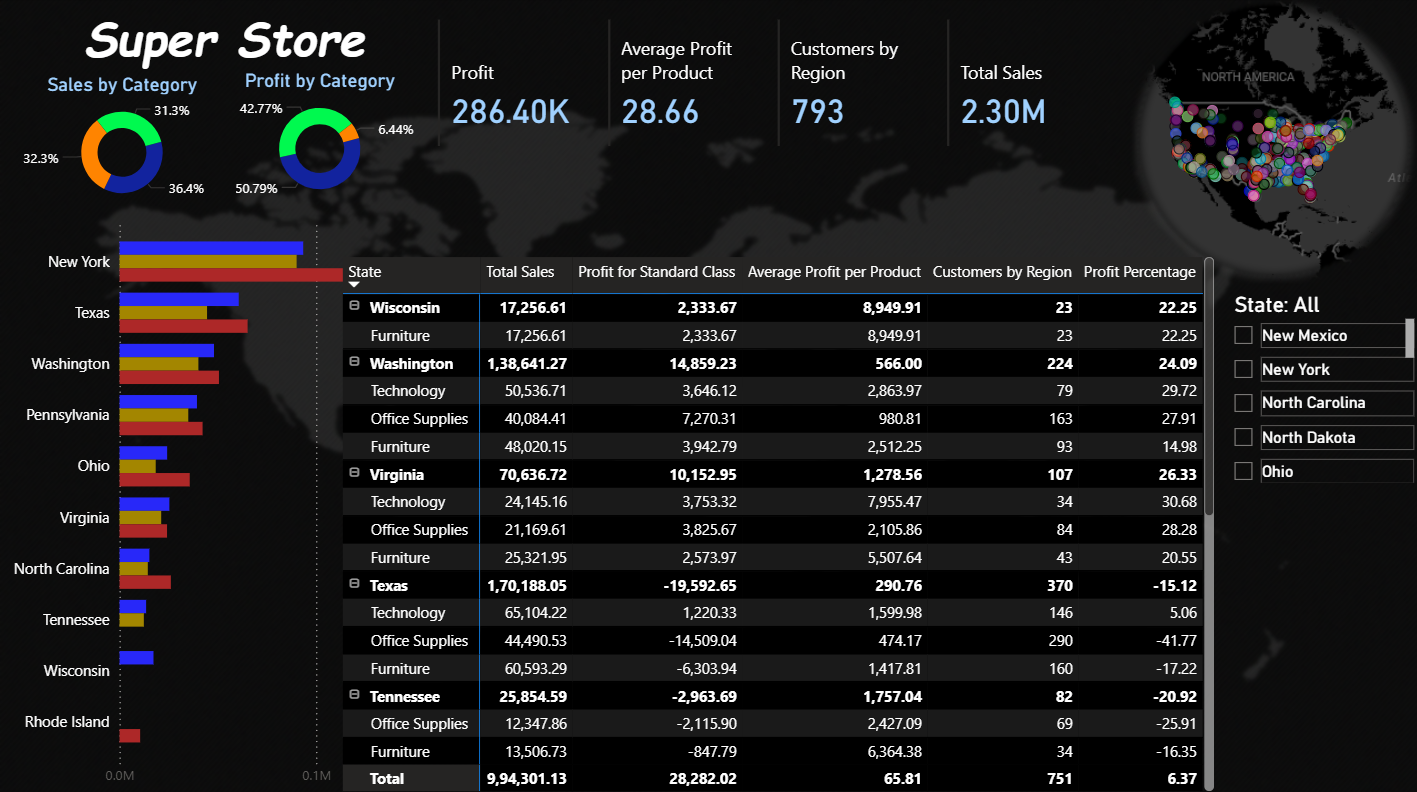

Layout of this report page (visuals, bound fields, positions):
{"tool":"powerbi","page":{"name":"Page 1","canvas":[1280,720],"ordinal":0},"visuals":[{"type":"map","fields":{"Category":["Orders.City"],"Series":["Orders.City"]},"box":[1004.3,0,275.7,272.9],"z":0},{"type":"image","box":[0,0,1280.4,720.2],"z":1000},{"type":"slicer","fields":{"Values":["Orders.State"]},"box":[1100,260,180,181.4],"z":2000},{"type":"textbox","box":[0,0,405.8,76.7],"z":3000},{"type":"clusteredBarChart","fields":{"Category":["Orders.State","Orders.Category"],"Y":["Sum(Orders.Sales Amount)"],"Series":["Orders.Category"]},"box":[0,188.4,393,531.4],"z":4000},{"type":"donutChart","fields":{"Category":["Orders.Category"],"Y":["Sum(Orders.Sales Amount)"]},"box":[9.3,67.4,202.3,124.4],"z":5000},{"type":"donutChart","fields":{"Category":["Orders.Category"],"Y":["Sum(Orders.Profit)"]},"box":[187.1,64.3,202.9,124.3],"z":6000},{"type":"pivotTable","fields":{"Rows":["Orders.State","Orders.Category"],"Values":["Orders.Total Sales","Orders.Profit for Standard Class","Orders.Average Profit per Product","Orders.Customers by Region","Orders.Profit Percentage"]},"box":[304.3,228.6,795.7,491.4],"z":7000},{"type":"cardVisual","fields":{"Data":["Sum(Orders.Profit)","Orders.Average Profit per Product","Orders.Customers by Region","Orders.Total Sales"]},"box":[390,14.3,614.3,124.3],"z":8000}]}

Visuals, with their boxes in screenshot pixels (x1, y1, x2, y2), scaled from the page's 1280x720 canvas onto the 1417x792 screenshot:
map - Orders.City x Orders.City: [left=1112, top=0, right=1416, bottom=300]
image: [left=0, top=0, right=1416, bottom=791]
slicer - Orders.State: [left=1218, top=286, right=1416, bottom=486]
textbox: [left=0, top=0, right=449, bottom=84]
clusteredBarChart - Orders.State x Orders.Category: [left=0, top=207, right=435, bottom=791]
donutChart - Orders.Category x Sum(Orders.Sales Amount): [left=10, top=74, right=234, bottom=211]
donutChart - Orders.Category x Sum(Orders.Profit): [left=207, top=71, right=432, bottom=207]
pivotTable - Orders.State x Orders.Category: [left=337, top=251, right=1218, bottom=791]
cardVisual - Sum(Orders.Profit) x Orders.Average Profit per Product: [left=432, top=16, right=1112, bottom=152]
